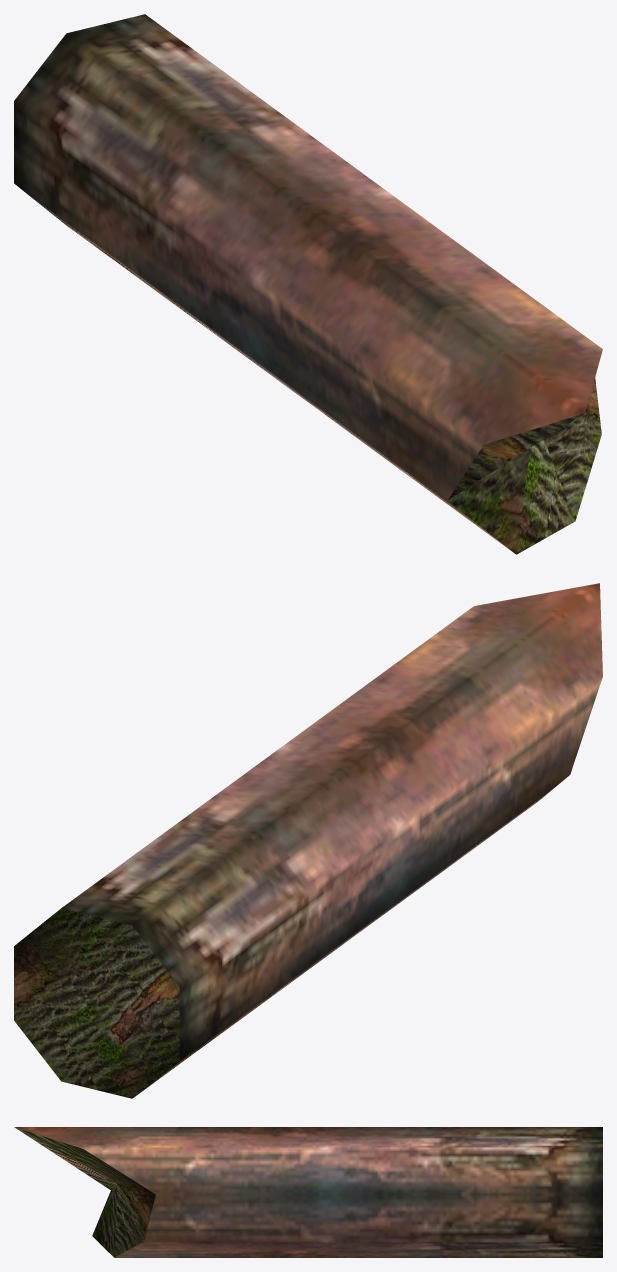
The model's file is S_RFCyl2.glb.
3 renders of one model, top to bottom at view 1: azimuth 30°, elevation 25°; view 2: azimuth 150°, elevation 25°; view 3: azimuth 270°, elevation 25°, orthographic. The views are drawn at different scales.
Parts seen in each view (by area): view 1: S_RFCyl2-col; view 2: S_RFCyl2-col; view 3: S_RFCyl2-col.
Part boxes in pixels (box(x1,y1,x2,y2)): S_RFCyl2-col: box(14, 14, 602, 554); S_RFCyl2-col: box(14, 583, 602, 1098); S_RFCyl2-col: box(14, 1127, 602, 1257).
Size of the model in its own units: 0.495 by 0.4951 by 2.42.
Materials: 2 (2 with a texture image).
